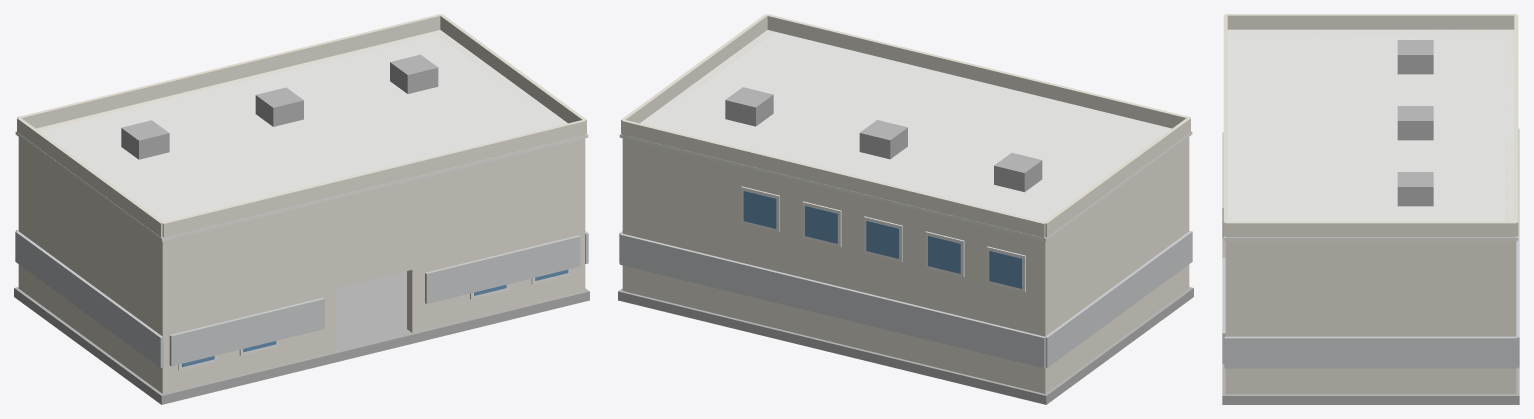
Rendered from canteen.glb.
The picture shows the model from 3 angles, left to right: view 1: azimuth 30°, elevation 25°; view 2: azimuth 150°, elevation 25°; view 3: azimuth 270°, elevation 25°; orthographic projection.
Visible parts, largest first — view 1: p9, p7, p2, p1, p37, p36, p6, p5, p12, p11, p13, p38 (+6 smaller); view 2: p9, p4, p2, p10, p36, p37, p1, p13, p38, p39, p3, p33 (+12 smaller); view 3: p9, p3, p14, p39, p38, p1, p33, p34, p35, p37, p36, p10 (+3 smaller).
Part boxes in pixels (x1=…): p9: x1=15, y1=30, x2=588, y2=241; p7: x1=172, y1=140, x2=575, y2=328; p2: x1=18, y1=137, x2=172, y2=393; p1: x1=14, y1=271, x2=589, y2=404; p37: x1=162, y1=119, x2=586, y2=237; p36: x1=17, y1=14, x2=441, y2=128; p6: x1=407, y1=230, x2=575, y2=332; p5: x1=172, y1=288, x2=335, y2=391; p12: x1=425, y1=235, x2=580, y2=303; p11: x1=169, y1=297, x2=324, y2=366; p13: x1=15, y1=231, x2=163, y2=367; p38: x1=17, y1=117, x2=163, y2=237; p9: x1=619, y1=30, x2=1192, y2=241; p4: x1=632, y1=140, x2=1035, y2=391; p2: x1=1035, y1=137, x2=1189, y2=393; p10: x1=620, y1=233, x2=1045, y2=368; p36: x1=621, y1=119, x2=1045, y2=237; p37: x1=766, y1=14, x2=1190, y2=128; p1: x1=618, y1=287, x2=1193, y2=404; p13: x1=1045, y1=231, x2=1192, y2=367; p38: x1=1044, y1=117, x2=1190, y2=237; p39: x1=621, y1=14, x2=767, y2=133; p3: x1=622, y1=30, x2=774, y2=292; p33: x1=994, y1=153, x2=1042, y2=192; p9: x1=1223, y1=29, x2=1518, y2=240; p3: x1=1225, y1=240, x2=1516, y2=394; p14: x1=1224, y1=336, x2=1517, y2=368; p39: x1=1225, y1=221, x2=1516, y2=237; p38: x1=1225, y1=14, x2=1516, y2=29; p1: x1=1222, y1=238, x2=1519, y2=404; p33: x1=1397, y1=40, x2=1433, y2=74; p34: x1=1397, y1=106, x2=1433, y2=140; p35: x1=1397, y1=172, x2=1433, y2=206; p37: x1=1223, y1=15, x2=1227, y2=236; p36: x1=1514, y1=15, x2=1518, y2=236; p10: x1=1516, y1=128, x2=1519, y2=367.
Size of the model in its own units: 22.3 by 9.2 by 13.3.
